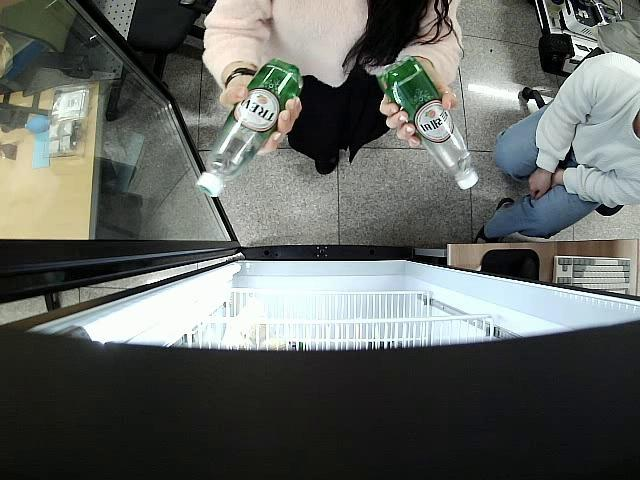18_trevi: (195, 58, 302, 199), (382, 57, 479, 192)
